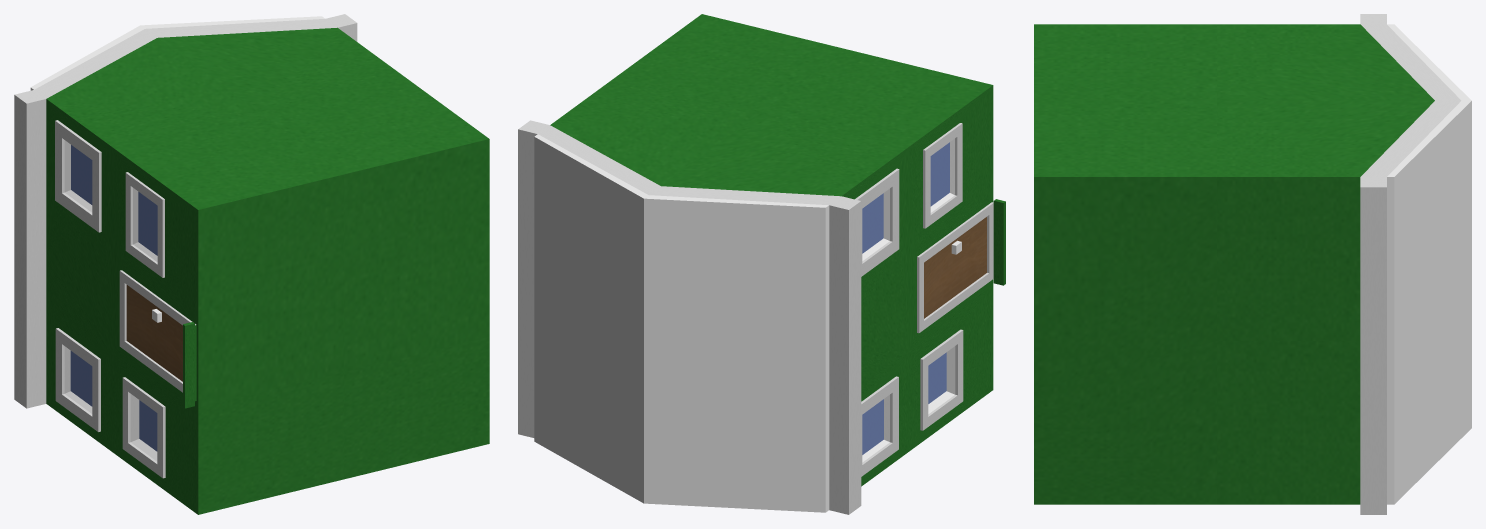
Rendered from venice_murano_7.fbx.
3 renders of one model, left to right at view 1: azimuth 30°, elevation 25°; view 2: azimuth 150°, elevation 25°; view 3: azimuth 270°, elevation 25°, orthographic. The views are drawn at different scales.
Visible parts, largest first — view 1: Cube.339; view 2: Cube.339; view 3: Cube.339.
Boxes of the visible parts, <box> form: Cube.339: <box>14,14,489,514</box>; Cube.339: <box>518,14,1005,514</box>; Cube.339: <box>1034,14,1471,514</box>.
Size of the model in its own units: 897 by 790 by 956.
